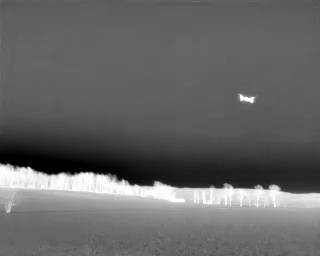DRONE: (234, 89, 259, 108)
